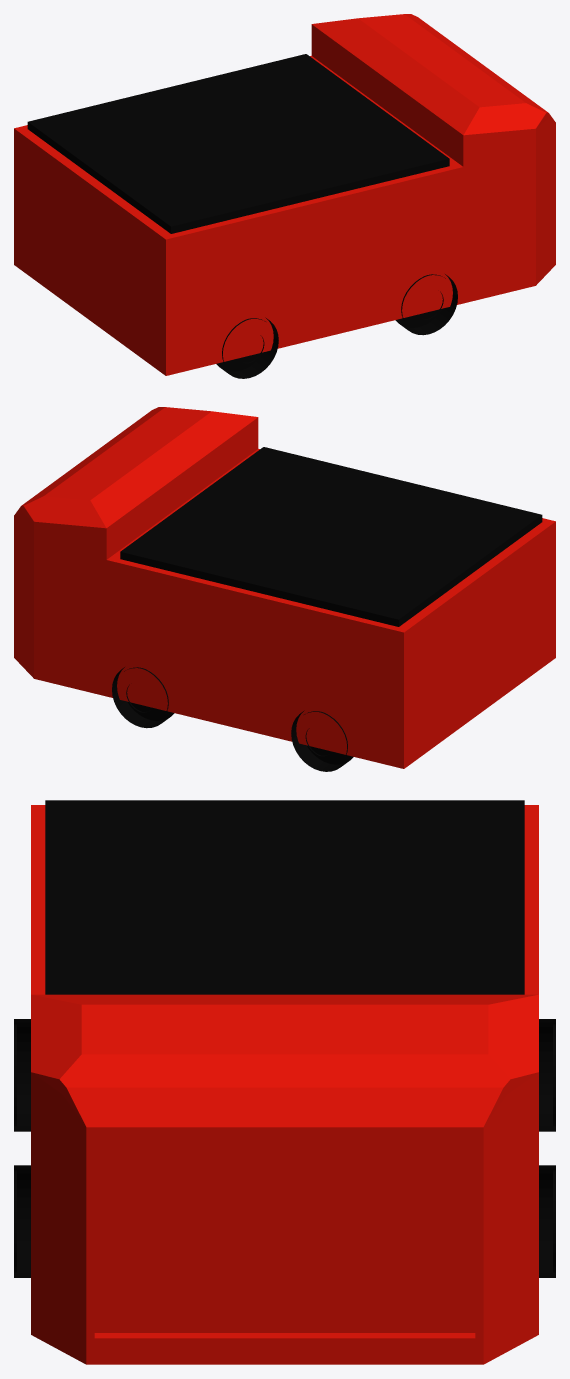
File: car.fbx
3 renders of one model, top to bottom at view 1: azimuth 30°, elevation 25°; view 2: azimuth 150°, elevation 25°; view 3: azimuth 270°, elevation 25°, orthographic. The views are drawn at different scales.
Visible parts, largest first — view 1: Cube.001, Cube.005, Cube.004; view 2: Cube.001, Cube.005, Cube.004; view 3: Cube.001, Cube.005, Cube.004.
Part boxes in pixels (bbox=[...]): Cube.001: bbox=[14, 14, 555, 375]; Cube.005: bbox=[27, 54, 449, 233]; Cube.004: bbox=[216, 274, 457, 378]; Cube.001: bbox=[14, 407, 555, 768]; Cube.005: bbox=[120, 447, 542, 626]; Cube.004: bbox=[112, 667, 353, 771]; Cube.001: bbox=[31, 805, 538, 1364]; Cube.005: bbox=[45, 800, 524, 994]; Cube.004: bbox=[14, 1019, 555, 1277].
Size of the model in its own units: 30.38 by 13.91 by 20.98.
